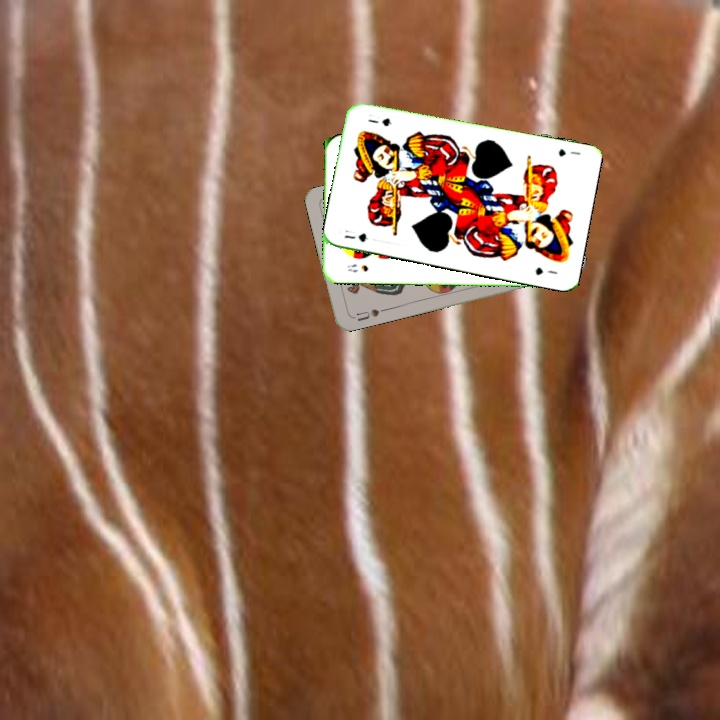GU: (340, 226, 371, 245), (554, 145, 583, 159)
S8: (344, 260, 370, 275)
SU: (348, 305, 382, 324)
